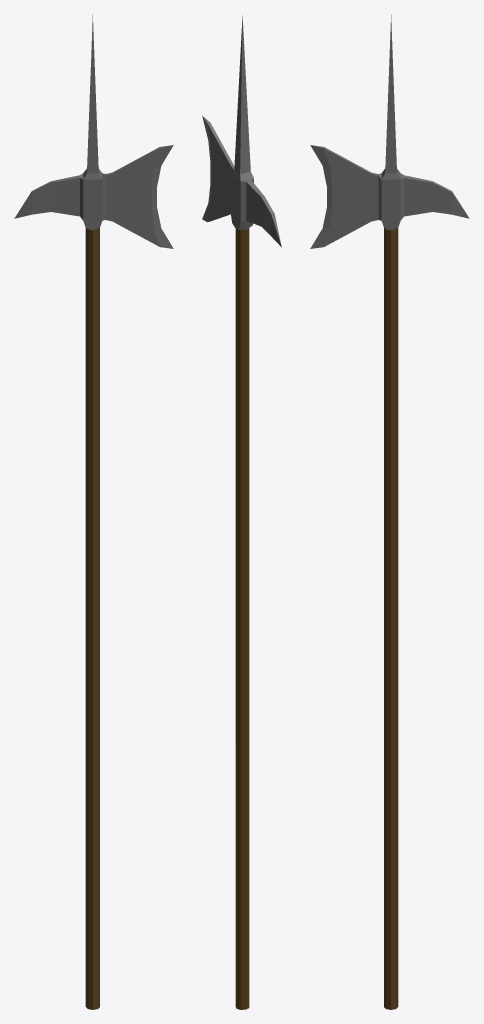
The model's file is Halberd.fbx.
3 views of the same model, side by side, from view 1: azimuth 90°, elevation 25°; view 2: azimuth 210°, elevation 25°; view 3: azimuth 270°, elevation 25° (orthographic).
Visible parts, largest first — view 1: Halberd; view 2: Halberd; view 3: Halberd.
Part boxes in pixels (x1=…): Halberd: x1=14, y1=14, x2=173, y2=1009; Halberd: x1=202, y1=15, x2=281, y2=1009; Halberd: x1=310, y1=14, x2=469, y2=1009.
Size of the model in its own units: 0.0355 by 2.5 by 0.3645.
